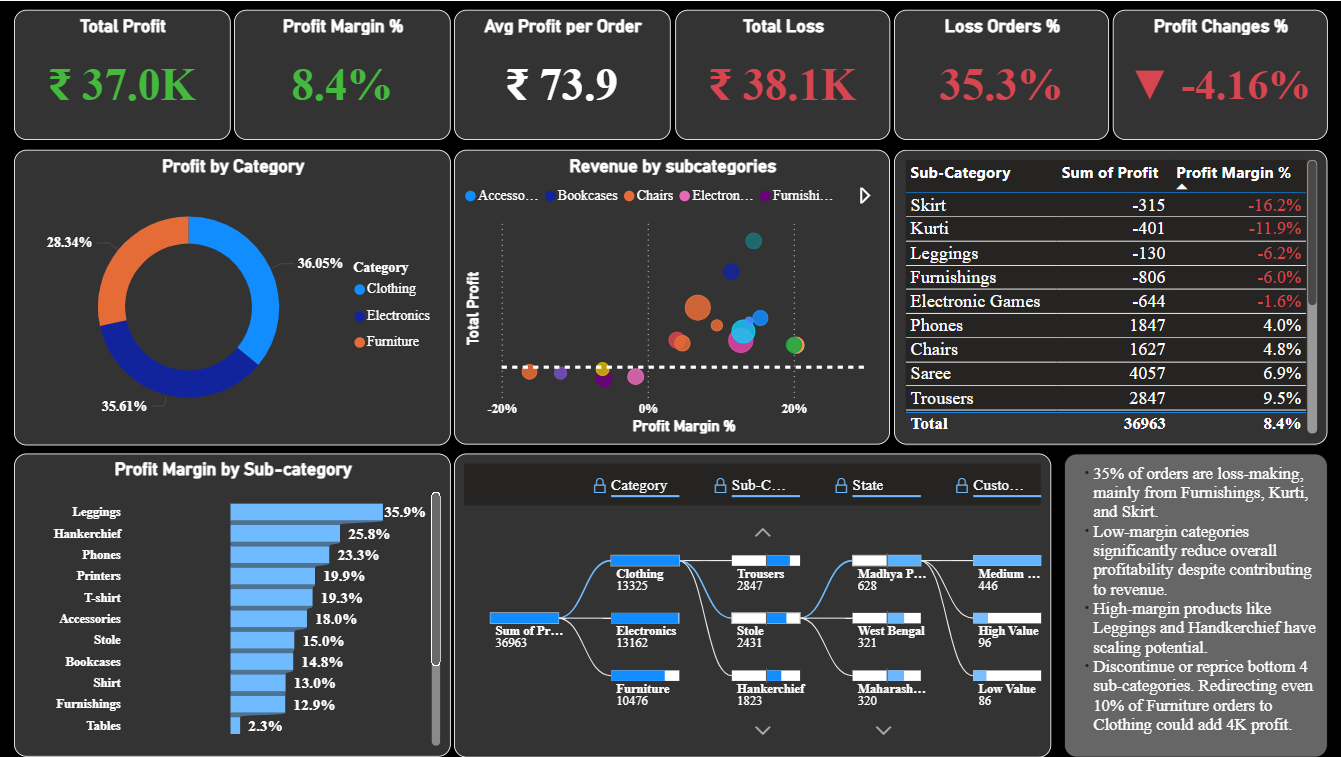

The page's visual inventory and layout, read from the dashboard file:
{"tool":"powerbi","page":{"name":"Profitability","canvas":[1280,720],"ordinal":2},"visuals":[{"type":"donutChart","title":"Profit by Category","fields":{"Y":["Sum(Details.Profit)"],"Category":["Details.Category"]},"box":[13.8,141.2,416.2,281.2],"z":0},{"type":"card","title":"Total Profit","fields":{"Values":["NewMeasure1.Total Profit"]},"box":[13.8,8.8,206.2,123.8],"z":1000},{"type":"card","title":"Total Loss","fields":{"Values":["NewMeasure1.Total Loss"]},"box":[643.6,8.8,205,123.8],"z":2000},{"type":"card","title":"Profit Margin %","fields":{"Values":["NewMeasure1.Profit Margin %"]},"box":[223.7,8.8,206.2,123.8],"z":3000},{"type":"card","title":"Avg Profit per Order","fields":{"Values":["NewMeasure1.Avg Profit per Order"]},"box":[433.6,8.8,206.2,123.8],"z":4000},{"type":"barChart","title":"Profit Margin by Sub-category","fields":{"Category":["Details.Sub-Category"],"Y":["NewMeasure1.Profit Margin %"]},"box":[13.8,431.2,416.2,288.8],"z":5000},{"type":"scatterChart","title":"Revenue by subcategories","fields":{"Y":["NewMeasure1.Total Profit"],"Series":["Details.Sub-Category"],"Size":["Sum(Details.Quantity)"],"X":["NewMeasure1.Profit Margin %"]},"box":[433.3,141.7,415.5,281],"z":6000},{"type":"tableEx","fields":{"Values":["Details.Sub-Category","Sum(Details.Profit)","NewMeasure1.Profit Margin %"]},"box":[852.4,141.7,413.1,281],"z":7000},{"type":"card","title":"Loss Orders %","fields":{"Values":["NewMeasure1.Loss Orders %"]},"box":[852.3,8.3,204.8,123.8],"z":8000},{"type":"card","title":"Profit Changes %","fields":{"Values":["NewMeasure2.ProfitChangeDisplay"]},"box":[1060.7,8.3,204.8,123.8],"z":9000},{"type":"decompositionTreeVisual","fields":{"Analyze":["Sum(Details.Profit)"],"ExplainBy":["Details.Category","Details.Sub-Category","Orders.State","Orders.Customer Segment Column"]},"box":[433.3,431,569.1,289.3],"z":10000},{"type":"textbox","box":[1014.3,431,251.2,289.3],"z":11000}]}

Visuals, with their boxes in screenshot pixels (x1, y1, x2, y2), scaled from the page's 1280x720 canvas onto the 1341x757 screenshot:
"Profit by Category" donutChart: 14, 148, 450, 444
"Total Profit" card: 14, 9, 230, 139
"Total Loss" card: 674, 9, 889, 139
"Profit Margin %" card: 234, 9, 450, 139
"Avg Profit per Order" card: 454, 9, 670, 139
"Profit Margin by Sub-category" barChart: 14, 453, 450, 756
"Revenue by subcategories" scatterChart: 454, 149, 889, 444
tableEx - Details.Sub-Category x Sum(Details.Profit): 893, 149, 1326, 444
"Loss Orders %" card: 893, 9, 1107, 139
"Profit Changes %" card: 1111, 9, 1326, 139
decompositionTreeVisual - Sum(Details.Profit) x Details.Category: 454, 453, 1050, 756
textbox: 1063, 453, 1326, 756
